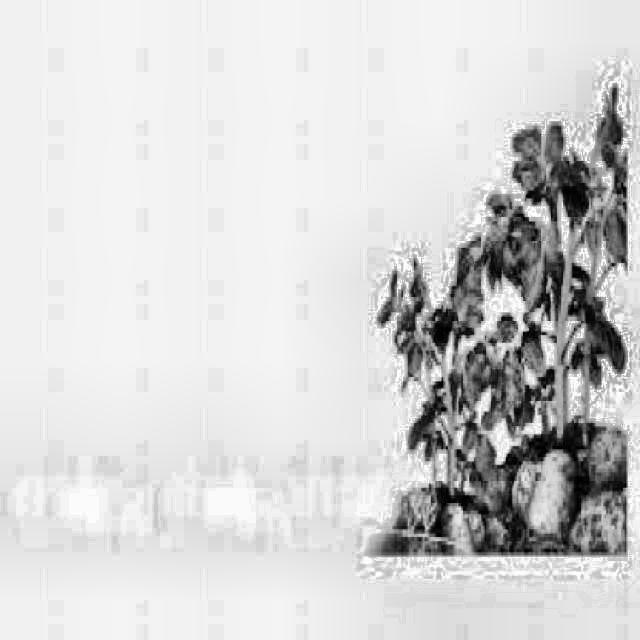plants: (360, 76, 629, 561)
